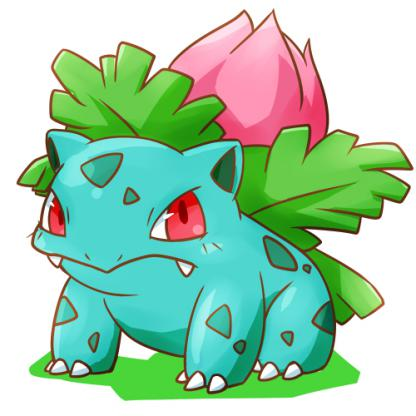Ivysaur: (29, 41, 416, 402)
